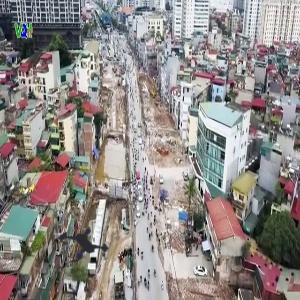drone: (34, 194, 137, 297)
